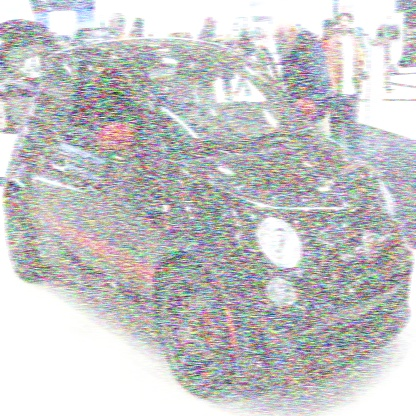Vehicle: (4, 40, 415, 399)
